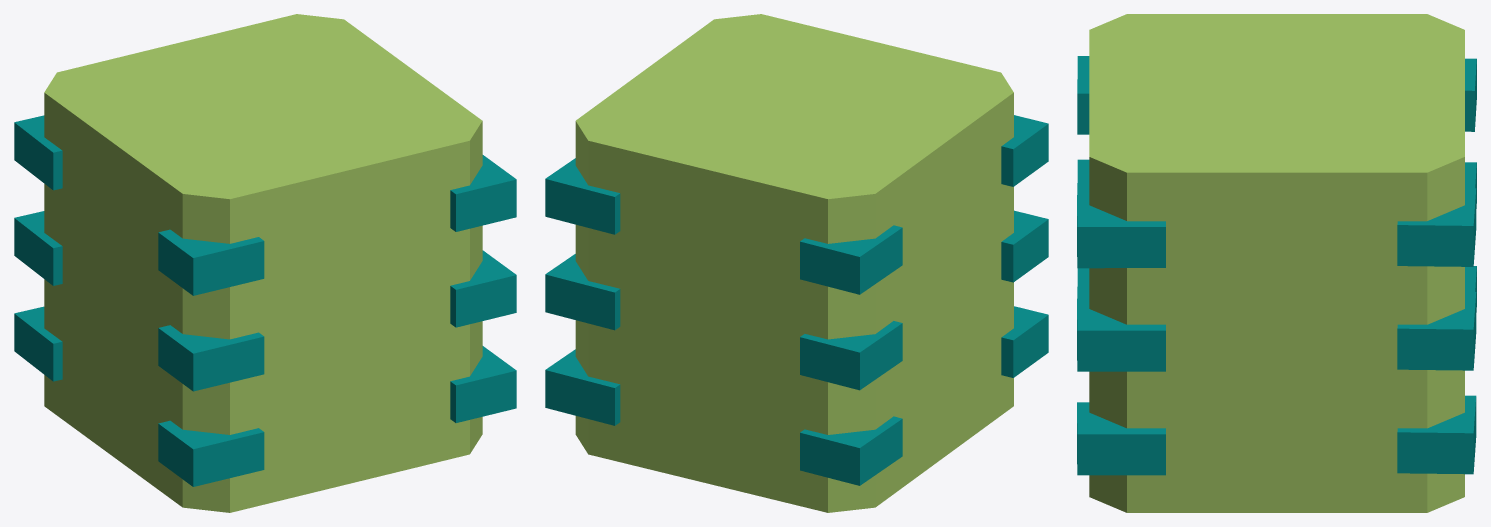
The model's file is 1Generic Center BlueGreen.fbx.
3 renders of one model, left to right at view 1: azimuth 30°, elevation 25°; view 2: azimuth 150°, elevation 25°; view 3: azimuth 270°, elevation 25°, orthographic. The views are drawn at different scales.
Parts seen in each view (by area): view 1: pCube6, pCube9, pCube7, pCube8, pCube4, pCube5, pCube3, pCube13, pCube14, pCube15; view 2: pCube6, pCube14, pCube15, pCube13, pCube10, pCube11, pCube12, pCube9, pCube7, pCube8; view 3: pCube6, pCube5, pCube4, pCube3, pCube11, pCube10, pCube12, pCube7, pCube14, pCube8.
Part boxes in pixels (x1,y1,x2,y2): pCube6: (44,14,482,512); pCube9: (158,420,264,486); pCube7: (158,229,264,295); pCube8: (158,325,264,391); pCube4: (450,250,516,327); pCube5: (450,346,516,422); pCube3: (450,155,516,231); pCube13: (14,211,62,285); pCube14: (14,115,62,190); pCube15: (14,306,62,381); pCube6: (575,14,1013,512); pCube14: (800,225,902,294); pCube15: (800,416,902,485); pCube13: (800,321,902,390); pCube10: (545,349,620,425); pCube11: (545,254,620,330); pCube12: (545,158,620,234); pCube9: (1001,306,1048,377); pCube7: (1001,115,1048,186); pCube8: (1001,210,1048,282); pCube6: (1089,14,1464,512); pCube5: (1077,402,1165,475); pCube4: (1077,298,1165,371); pCube3: (1077,195,1165,268); pCube11: (1397,292,1476,370); pCube10: (1397,395,1476,474); pCube12: (1397,188,1476,266); pCube7: (1077,56,1089,134); pCube14: (1465,58,1476,131); pCube8: (1077,159,1089,194).
Bounding box in the file's own units: 2.16 × 2 × 2.13.
